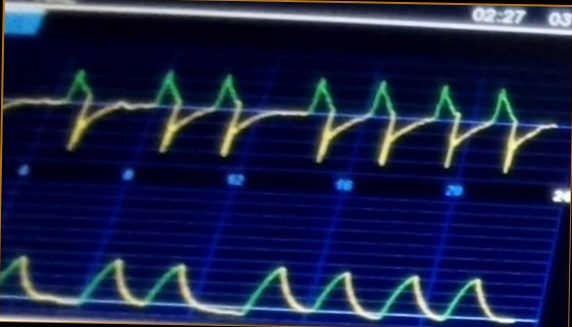Ineffective_effort Flow: (5, 64, 553, 171)
Ineffective_effort Volume: (1, 241, 519, 323)
